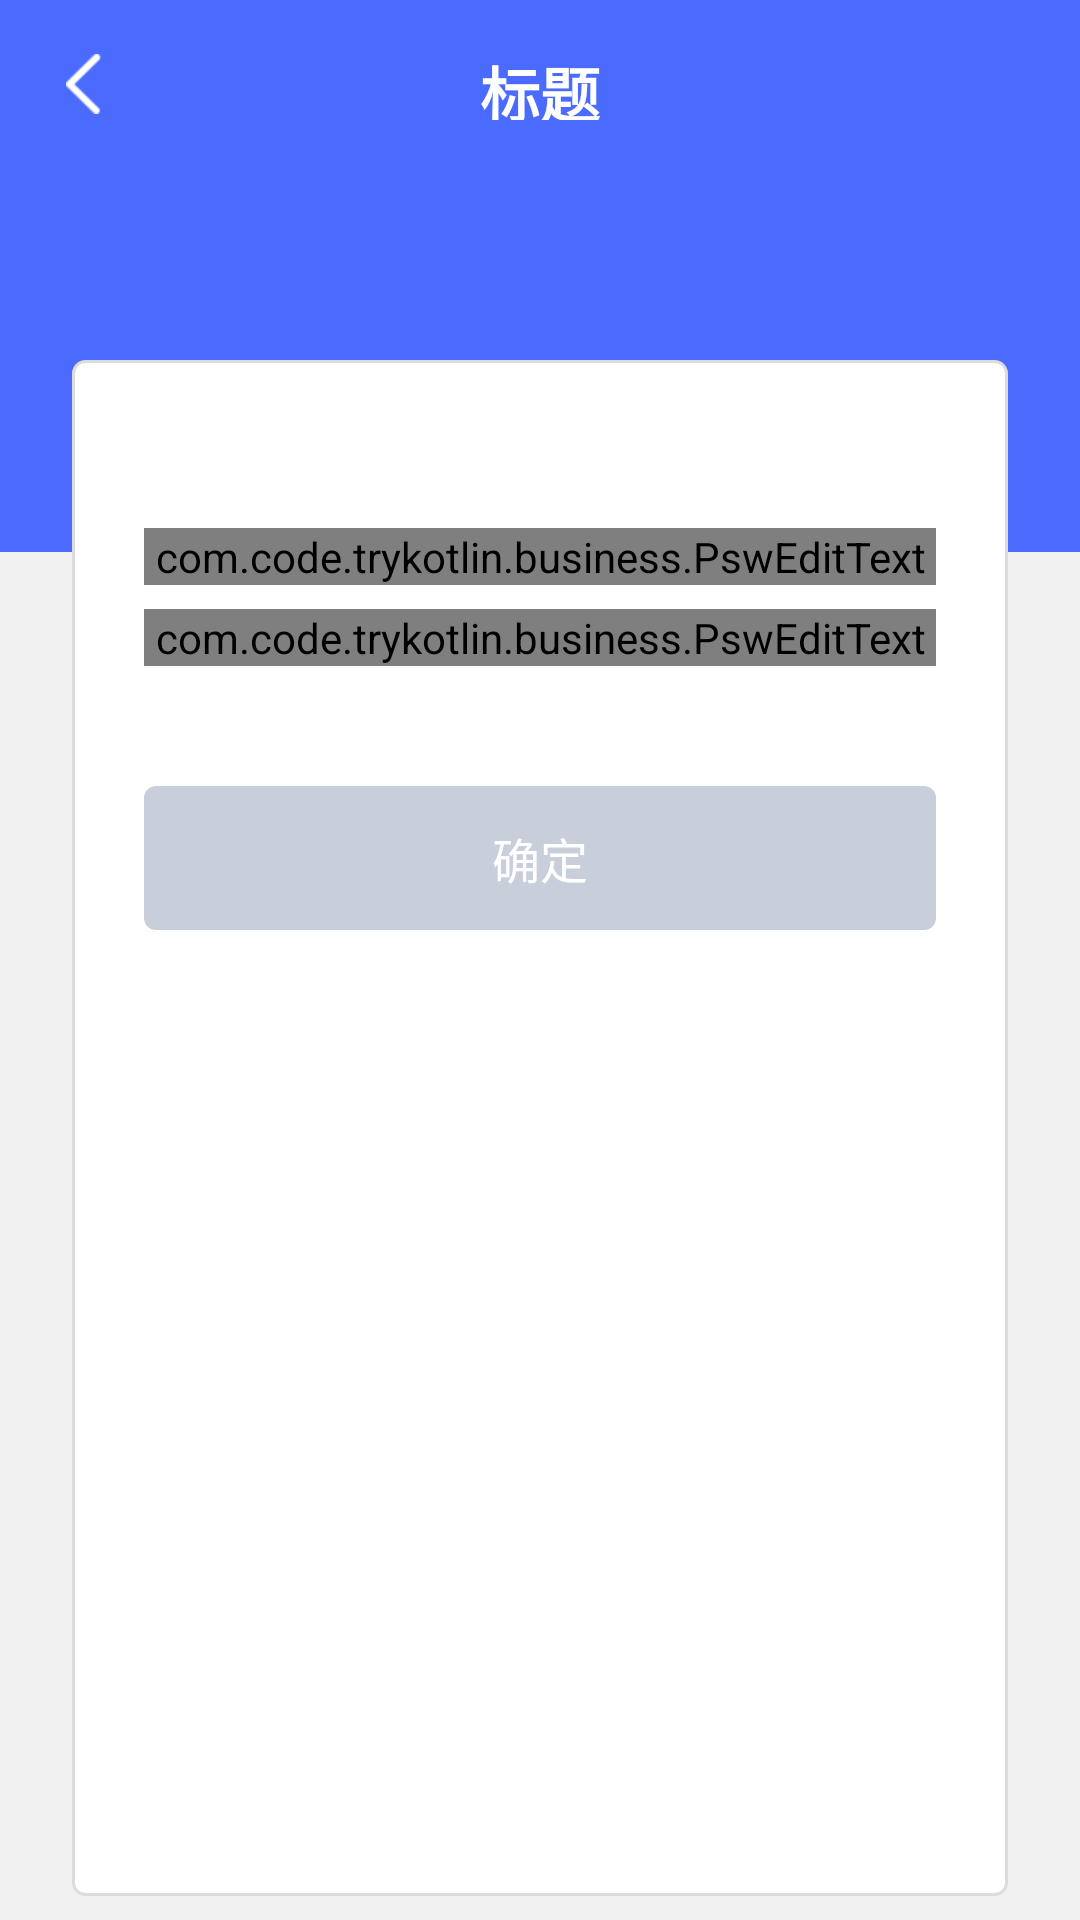

Locate icon controls on the screen. Image size 1080*1920, boxes as (x1, y1, x2, y2).
back: (66, 54, 101, 114)
